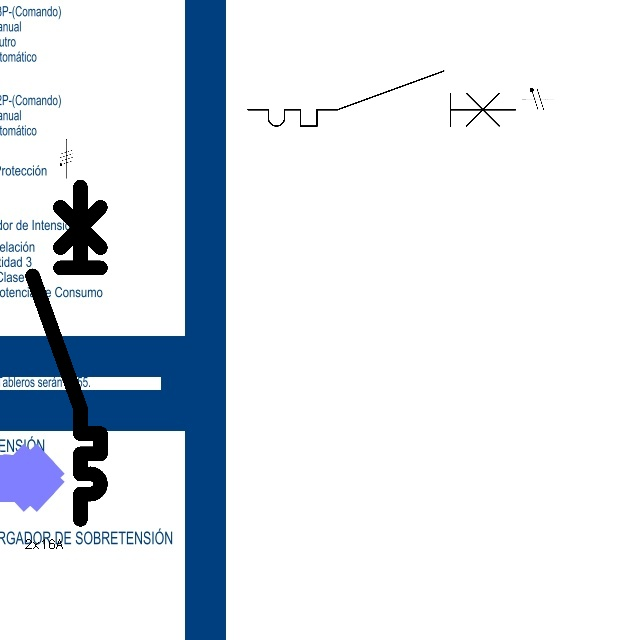interruptor_termomagnetico: (24, 178, 109, 528), (241, 64, 522, 133)
